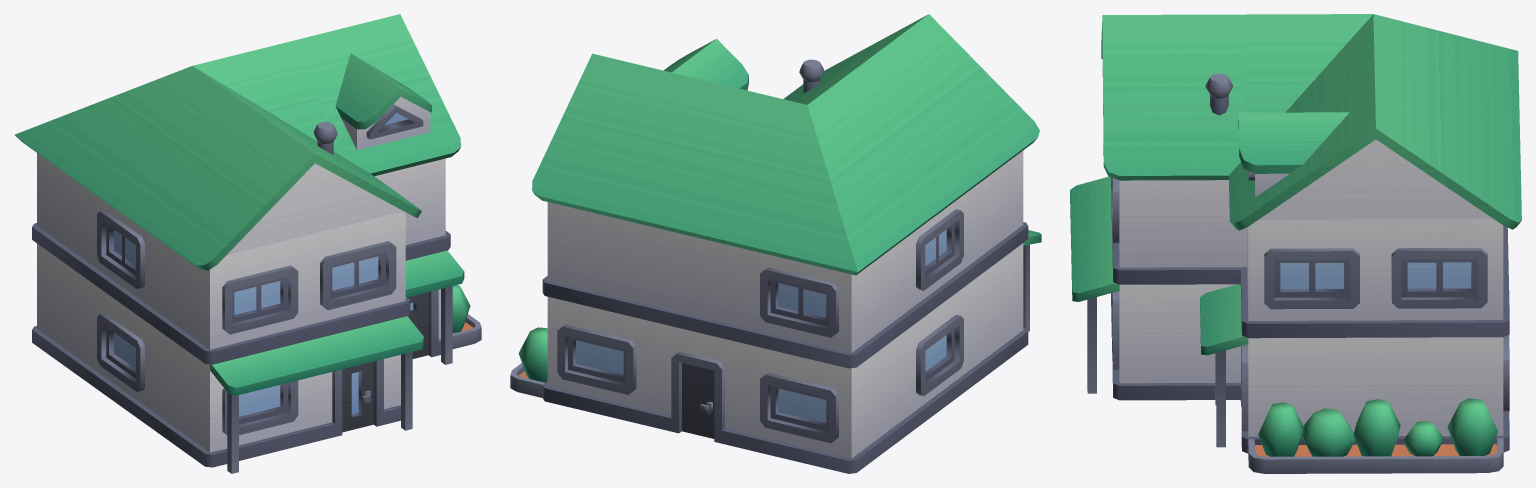
Rendered from building-type-f.010_lev3.glb.
The picture shows the model from 3 angles, left to right: view 1: azimuth 30°, elevation 25°; view 2: azimuth 150°, elevation 25°; view 3: azimuth 270°, elevation 25°; orthographic projection. The views are drawn at different scales.
Visible parts, largest first — view 1: building-type-f.010_lev3; view 2: building-type-f.010_lev3; view 3: building-type-f.010_lev3.
Boxes of the visible parts, x1,y1,x2,y2 form: building-type-f.010_lev3: (14, 14, 481, 473); building-type-f.010_lev3: (510, 14, 1041, 473); building-type-f.010_lev3: (1070, 14, 1521, 473).
Size of the model in its own units: 5.74 by 4.55 by 5.67.
1 material, 1 textured.
